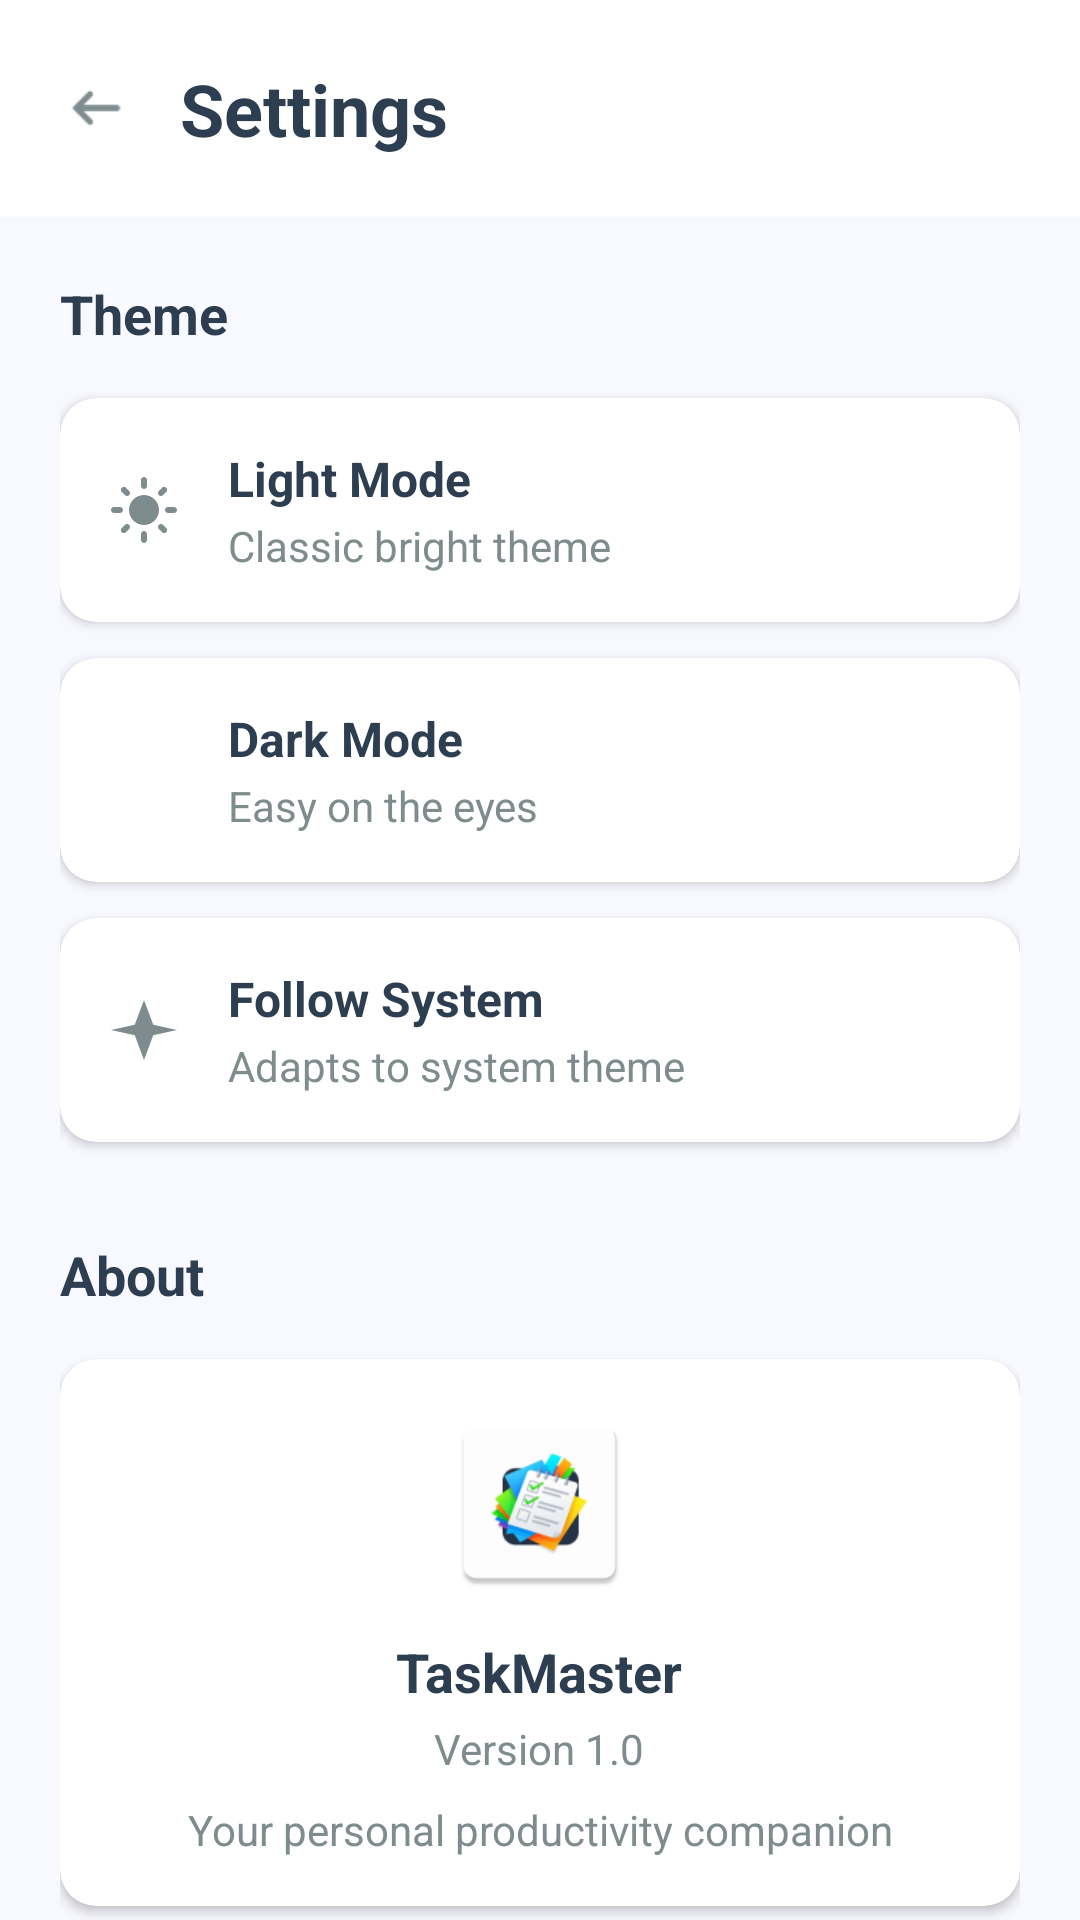

Named icons in this screenshot (1080 × 1920) and their bounding boxes, {"left": x1, "top": y1, "right": x2, "bottom": y2}:
auto mode: {"left": 112, "top": 1001, "right": 176, "bottom": 1059}
back: {"left": 72, "top": 91, "right": 121, "bottom": 125}
